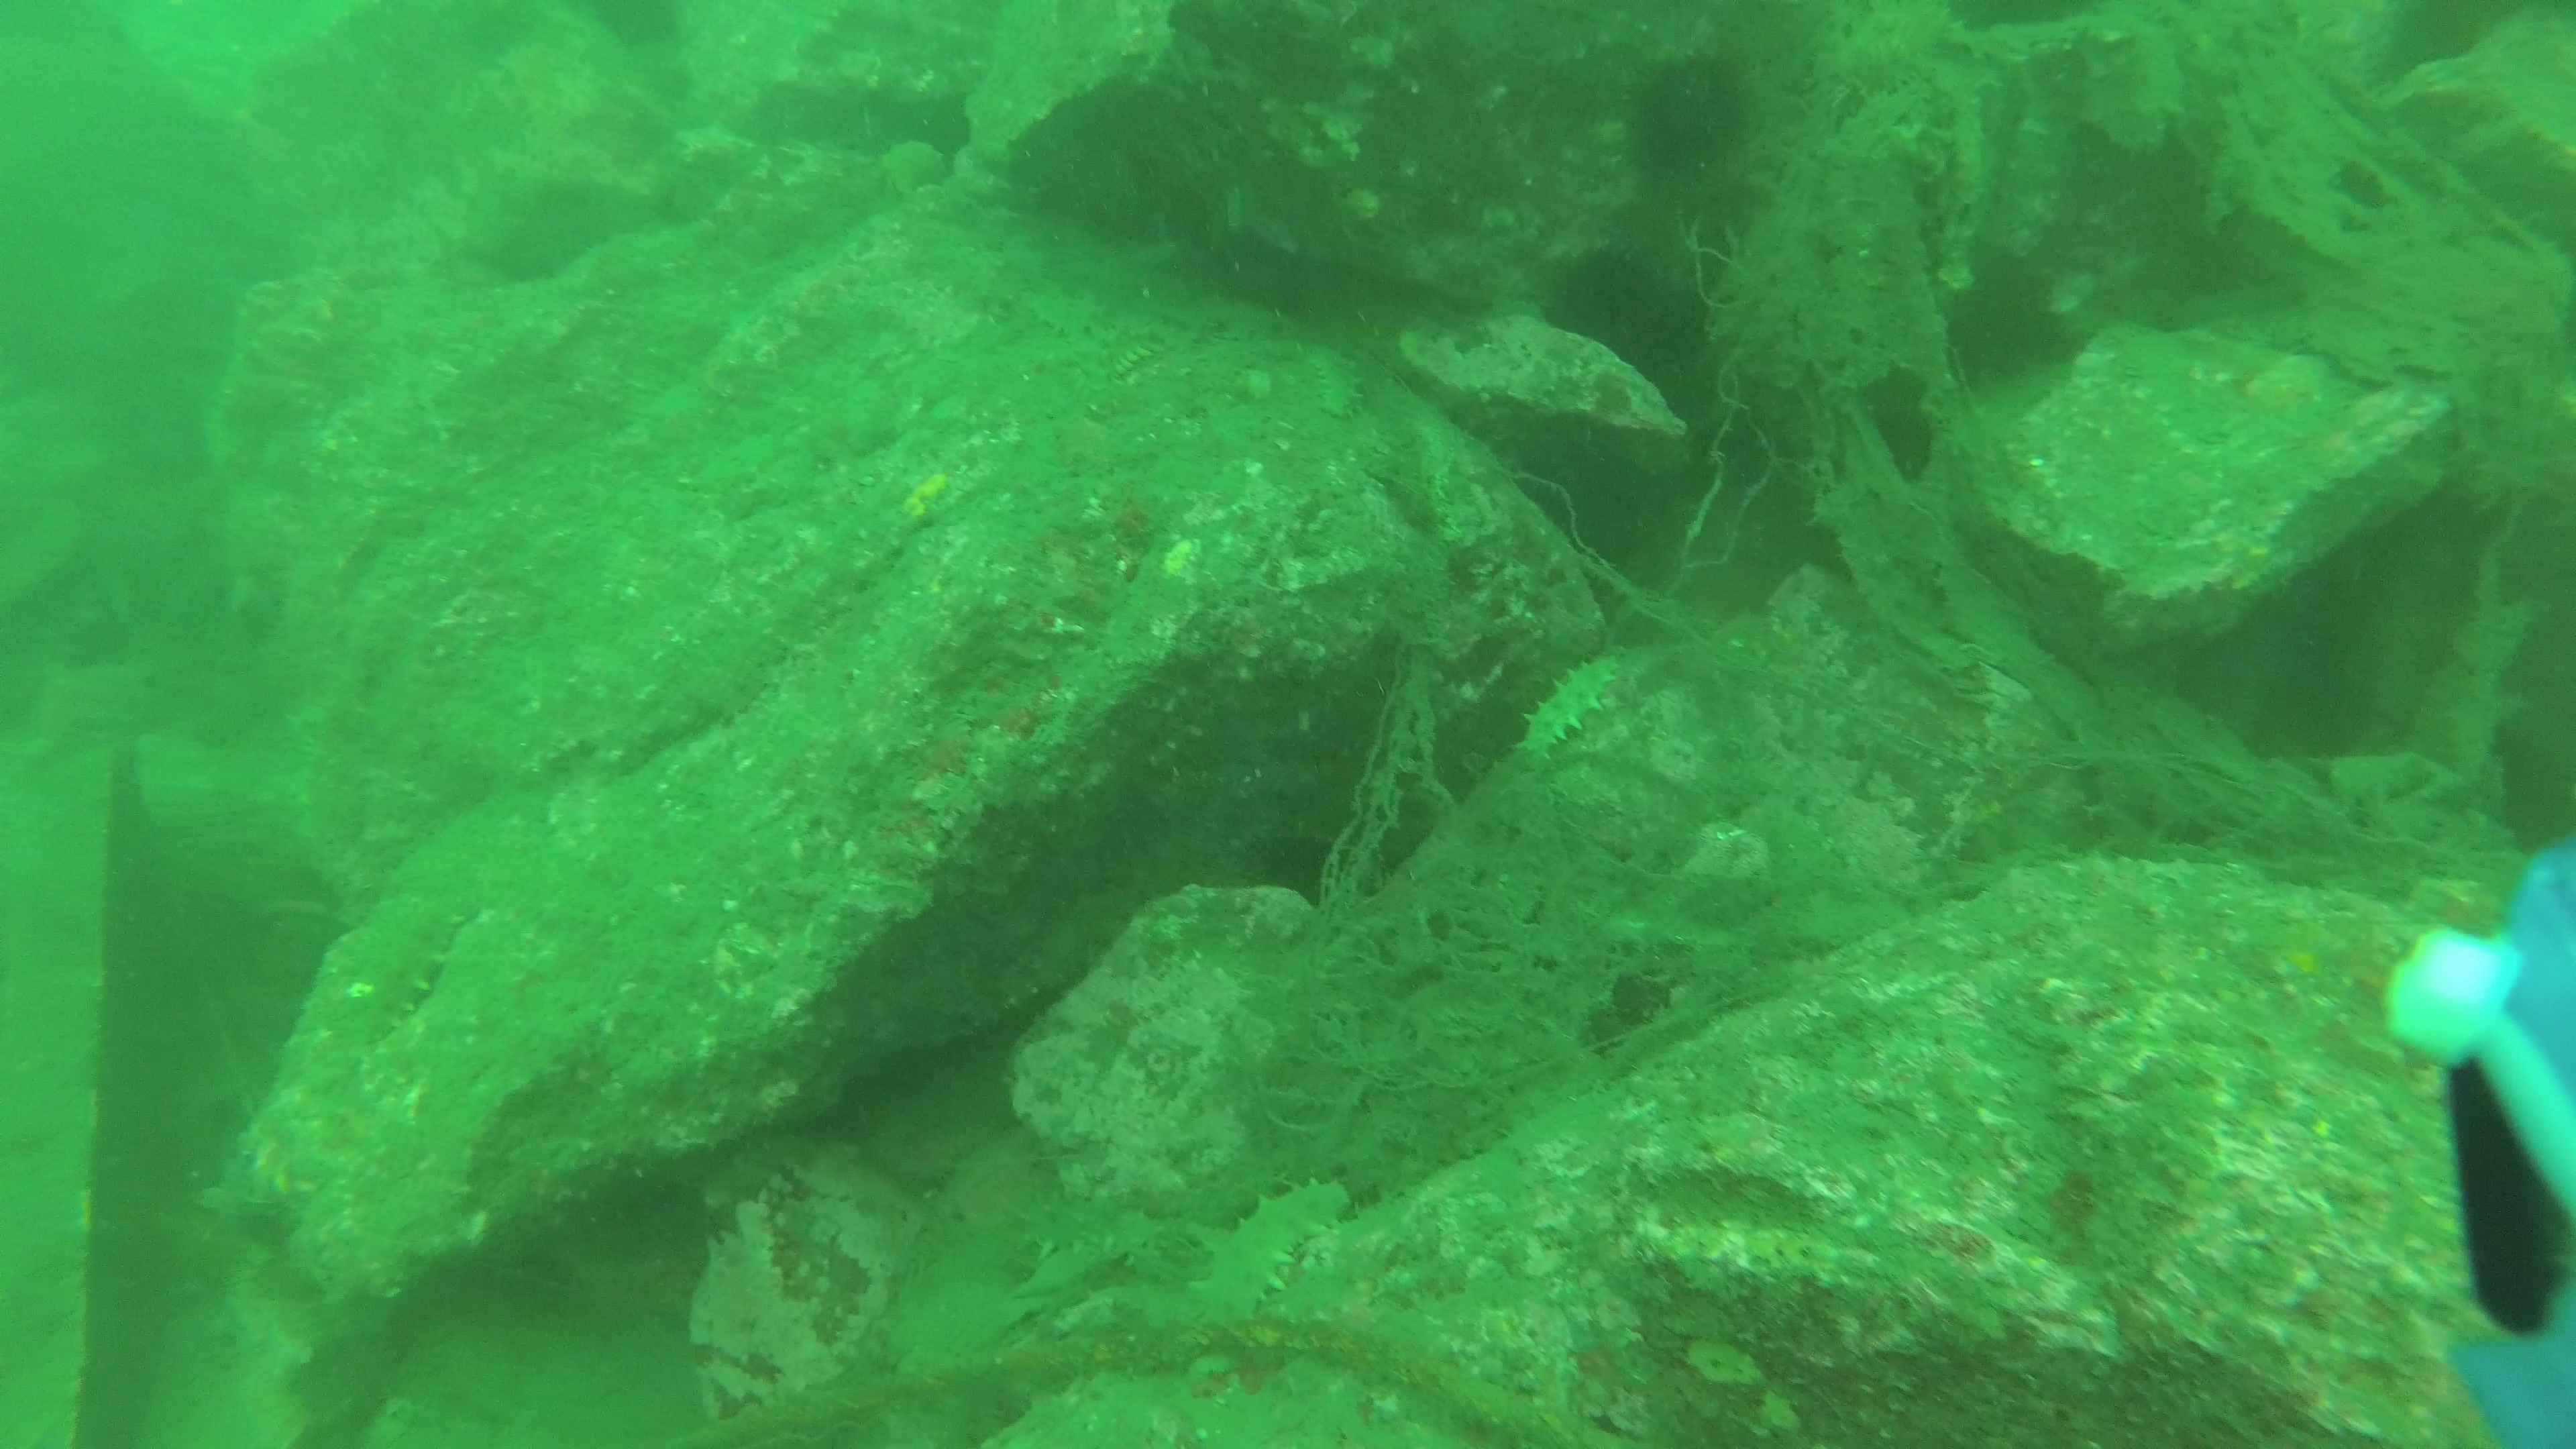echinus: (1537, 234, 1695, 370), (1626, 39, 1760, 191)
holothurian: (1187, 1171, 1357, 1338), (350, 886, 478, 1049), (1516, 651, 1624, 768), (1293, 333, 1371, 423), (1088, 320, 1166, 384)
